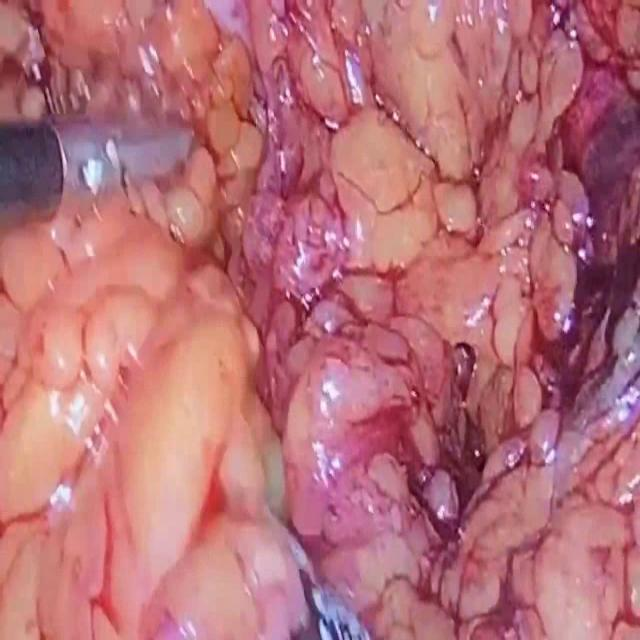surgical-tool: (0, 118, 196, 233)
